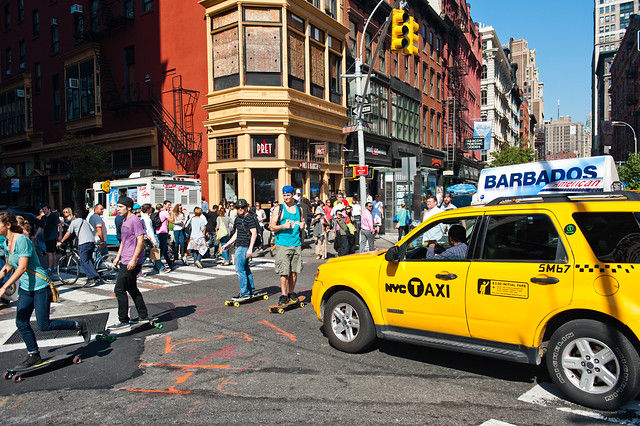backpack: (3, 220, 66, 301), (112, 201, 149, 302), (118, 210, 147, 271), (129, 206, 155, 267), (65, 215, 97, 258), (80, 208, 103, 264), (138, 209, 157, 261), (85, 208, 108, 245), (45, 209, 60, 246), (70, 217, 95, 239), (67, 218, 86, 244), (83, 216, 100, 240), (77, 215, 97, 234), (217, 213, 229, 240), (152, 208, 164, 230)
bench: (12, 245, 73, 290), (58, 291, 115, 339), (11, 259, 61, 305), (37, 315, 100, 343), (67, 310, 110, 341)
bicycle: (5, 217, 93, 327), (17, 213, 128, 291), (59, 224, 122, 308), (55, 212, 112, 282), (25, 237, 101, 285), (30, 216, 76, 283), (21, 244, 72, 295), (58, 243, 117, 286), (13, 260, 67, 305), (64, 223, 98, 286), (82, 205, 108, 279), (55, 232, 87, 285), (44, 242, 80, 286), (93, 243, 119, 281), (91, 225, 112, 272), (58, 247, 80, 283)
bus: (86, 169, 200, 246), (466, 156, 630, 208), (97, 175, 201, 218), (103, 190, 160, 253), (444, 181, 477, 207), (446, 182, 476, 196)
car: (304, 163, 640, 419), (84, 168, 202, 258), (7, 246, 67, 293), (110, 203, 153, 265), (72, 216, 114, 251), (442, 180, 480, 207), (95, 210, 114, 256), (87, 207, 110, 243), (109, 207, 126, 254), (7, 205, 36, 227), (100, 216, 119, 249), (446, 182, 477, 199), (13, 210, 35, 233), (451, 191, 474, 208), (8, 206, 37, 217)
clock: (254, 136, 276, 157)
handbag: (112, 201, 149, 302), (2, 234, 52, 305), (0, 209, 34, 308), (17, 244, 65, 300), (21, 227, 57, 290), (118, 210, 147, 271), (25, 251, 72, 286), (2, 255, 41, 295), (12, 259, 56, 294), (131, 210, 154, 265), (113, 237, 148, 273), (216, 206, 236, 265), (86, 209, 108, 260), (59, 216, 82, 263), (94, 212, 112, 265), (35, 266, 61, 302), (139, 211, 158, 259), (80, 217, 104, 250), (63, 218, 85, 249), (257, 201, 272, 246), (223, 211, 239, 250), (89, 214, 109, 243), (60, 211, 77, 244), (70, 217, 95, 239), (252, 206, 264, 250), (217, 215, 235, 242), (140, 213, 155, 243), (47, 274, 61, 303), (224, 226, 237, 254), (85, 216, 100, 240), (271, 203, 284, 230), (255, 219, 266, 250), (219, 225, 236, 245), (157, 207, 169, 235), (81, 213, 95, 236), (95, 231, 107, 257), (344, 213, 356, 238), (261, 220, 272, 245), (152, 208, 164, 230), (184, 214, 193, 239)
motorcycle: (54, 232, 116, 284)
person: (304, 163, 640, 419), (0, 210, 87, 375), (29, 203, 113, 330), (14, 213, 94, 298), (92, 192, 145, 312), (1, 215, 58, 320), (237, 191, 287, 304), (114, 197, 151, 325), (269, 182, 305, 301), (222, 199, 260, 299), (61, 203, 102, 284), (0, 212, 33, 306), (103, 194, 152, 256), (54, 238, 118, 285), (19, 223, 60, 295), (392, 201, 443, 258), (14, 203, 52, 278), (122, 202, 155, 288), (48, 205, 83, 284), (406, 208, 457, 258), (75, 220, 111, 288), (218, 202, 247, 276), (114, 201, 145, 269), (34, 201, 61, 276), (40, 226, 72, 286), (245, 201, 274, 267), (72, 212, 107, 265), (57, 205, 94, 255), (238, 202, 264, 272), (55, 232, 87, 285), (10, 204, 44, 252), (192, 206, 217, 269), (430, 201, 459, 254), (416, 194, 440, 255), (137, 205, 160, 268), (395, 197, 427, 242), (185, 207, 208, 269), (154, 203, 174, 270), (301, 194, 322, 256), (429, 225, 468, 257), (406, 226, 445, 258), (310, 198, 329, 259), (87, 205, 108, 260), (113, 197, 133, 254), (316, 206, 336, 262), (333, 209, 356, 257), (216, 206, 234, 263), (43, 206, 62, 260), (165, 204, 183, 261), (210, 206, 228, 262), (56, 208, 74, 264), (171, 203, 188, 262), (31, 203, 49, 258), (91, 225, 112, 272), (351, 200, 369, 252), (151, 202, 167, 260), (359, 201, 377, 252), (422, 204, 443, 246), (434, 191, 455, 233), (245, 204, 264, 249), (95, 210, 114, 254), (203, 203, 219, 255), (0, 209, 18, 255), (414, 193, 437, 228), (59, 213, 80, 251), (393, 201, 412, 242), (424, 225, 449, 256), (364, 197, 380, 245), (253, 200, 268, 250), (342, 203, 357, 253), (1, 210, 26, 240), (17, 214, 37, 251), (223, 202, 239, 247), (116, 189, 134, 228), (349, 194, 363, 243), (10, 212, 29, 248), (427, 191, 449, 222), (49, 207, 65, 248), (443, 223, 468, 249), (90, 202, 108, 238), (441, 186, 468, 210), (267, 202, 283, 242), (148, 203, 162, 248), (298, 193, 312, 238), (331, 210, 346, 252), (156, 203, 171, 245), (319, 199, 333, 243), (257, 201, 272, 241), (178, 214, 191, 260), (139, 203, 155, 240), (415, 239, 446, 258), (310, 198, 325, 237), (326, 197, 343, 231), (422, 194, 442, 220), (87, 211, 103, 243), (100, 205, 116, 237), (213, 205, 227, 240), (314, 222, 327, 259), (33, 218, 46, 255), (328, 210, 341, 247), (59, 207, 74, 239), (258, 218, 273, 250), (361, 202, 375, 236), (219, 205, 236, 233), (114, 210, 127, 246), (431, 193, 454, 213), (372, 195, 383, 236), (112, 202, 124, 238), (206, 203, 219, 236), (160, 200, 173, 233), (341, 207, 355, 237), (173, 203, 187, 233), (201, 196, 213, 231), (346, 196, 359, 228), (97, 208, 110, 239), (144, 205, 158, 233), (311, 212, 323, 244), (412, 193, 424, 224), (16, 215, 32, 238), (137, 205, 150, 232), (117, 188, 134, 208), (254, 201, 267, 227), (150, 204, 162, 232), (419, 195, 432, 220), (350, 194, 362, 221), (139, 202, 153, 225), (226, 202, 238, 228), (315, 198, 327, 224), (323, 200, 333, 231), (264, 200, 275, 228), (57, 207, 68, 235), (113, 214, 123, 243), (440, 192, 457, 209), (308, 198, 319, 224), (269, 200, 280, 226), (61, 206, 75, 226), (331, 197, 345, 217), (424, 240, 439, 258), (424, 191, 439, 209), (543, 227, 558, 245), (260, 202, 271, 226), (311, 196, 324, 216), (86, 203, 97, 226), (429, 190, 443, 208), (334, 194, 349, 210), (162, 199, 173, 220), (224, 201, 236, 218), (435, 188, 445, 208), (201, 197, 210, 219), (83, 203, 92, 223), (132, 198, 142, 216), (529, 113, 537, 134)
potted plant: (618, 151, 640, 191)
skateboard: (4, 329, 117, 384), (3, 348, 87, 382), (31, 330, 116, 363), (10, 250, 69, 297), (69, 306, 150, 339), (104, 303, 179, 335), (37, 315, 100, 343), (239, 288, 295, 313), (67, 311, 110, 340), (32, 324, 85, 347), (149, 304, 192, 332), (138, 302, 177, 330), (105, 316, 160, 335), (73, 335, 109, 364), (268, 291, 308, 314), (97, 319, 145, 338), (224, 288, 271, 307), (269, 300, 300, 314), (275, 296, 303, 311), (0, 292, 19, 307), (251, 247, 273, 258), (198, 257, 219, 267)
skis: (104, 303, 179, 335)
snowboard: (104, 304, 178, 336)
suitcase: (71, 310, 110, 341), (198, 257, 220, 267)
tennis racket: (12, 245, 73, 290), (20, 252, 62, 302), (24, 262, 65, 288)
traffic light: (354, 2, 406, 63), (389, 5, 419, 55), (401, 16, 420, 56), (390, 6, 408, 46), (347, 165, 371, 178), (428, 157, 443, 169)
truck: (304, 163, 640, 419), (466, 155, 632, 211), (88, 170, 200, 244), (103, 184, 162, 305), (119, 189, 190, 263), (85, 179, 156, 238), (103, 174, 202, 213), (103, 190, 160, 253), (110, 194, 143, 272), (444, 181, 477, 207)
tv: (444, 181, 477, 207)
umbrella: (446, 185, 475, 207), (446, 182, 477, 196)
